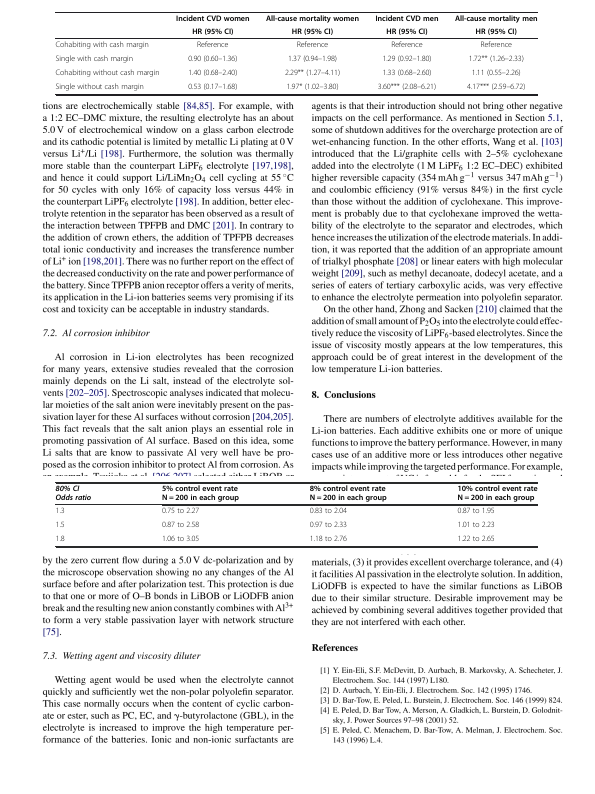borderless: (54, 10, 537, 94), (54, 481, 537, 546)
cell: (457, 485, 538, 503), (161, 485, 240, 503), (309, 485, 388, 503), (54, 68, 160, 78), (54, 40, 150, 50), (55, 82, 145, 92), (265, 14, 360, 23), (54, 54, 134, 64), (454, 14, 538, 23), (175, 14, 250, 23), (55, 485, 92, 502), (377, 82, 437, 92), (466, 82, 526, 92), (374, 14, 439, 23), (468, 54, 525, 64), (284, 68, 341, 78), (285, 82, 339, 92), (187, 54, 238, 64), (287, 54, 338, 64), (381, 54, 432, 64), (187, 68, 238, 78), (381, 68, 432, 78), (471, 68, 522, 78), (187, 82, 238, 92), (191, 27, 234, 37), (291, 27, 334, 37), (385, 27, 428, 37), (475, 27, 518, 37), (390, 40, 424, 50), (479, 40, 513, 50), (196, 40, 229, 50), (296, 40, 329, 50), (161, 508, 200, 515), (309, 508, 348, 515), (457, 508, 496, 515), (161, 522, 200, 529), (309, 522, 348, 529), (457, 522, 496, 529), (161, 536, 200, 543), (309, 536, 348, 543), (457, 536, 496, 543), (55, 508, 65, 515), (55, 522, 65, 529), (55, 536, 65, 543)
